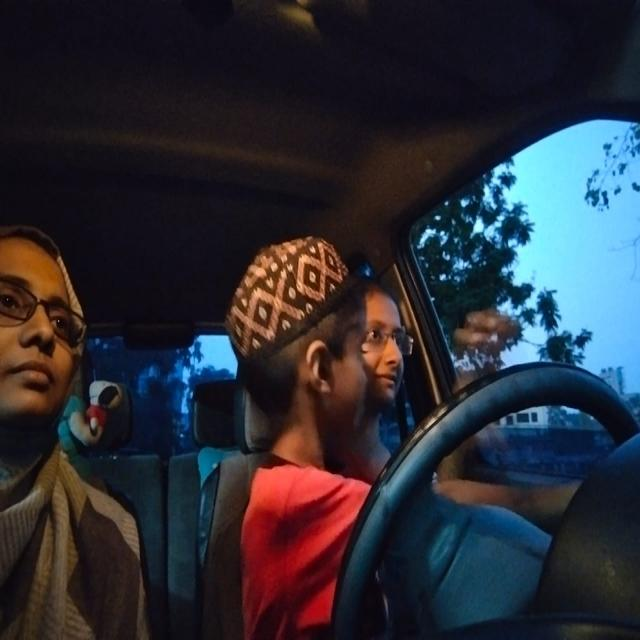child: (227, 230, 381, 439)
person: (2, 217, 100, 468), (362, 284, 426, 418)
